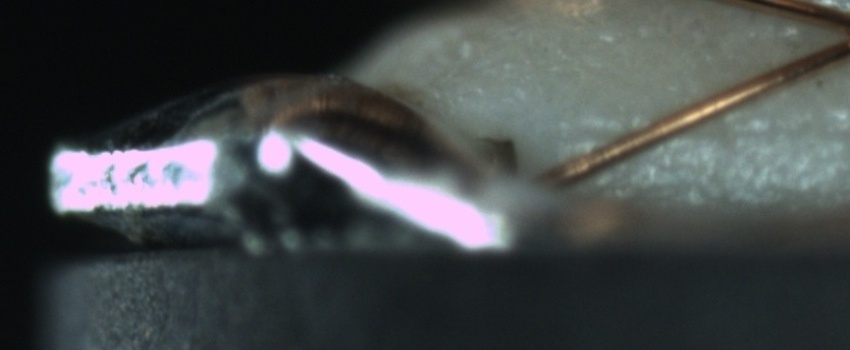DL: (565, 100, 846, 161)
